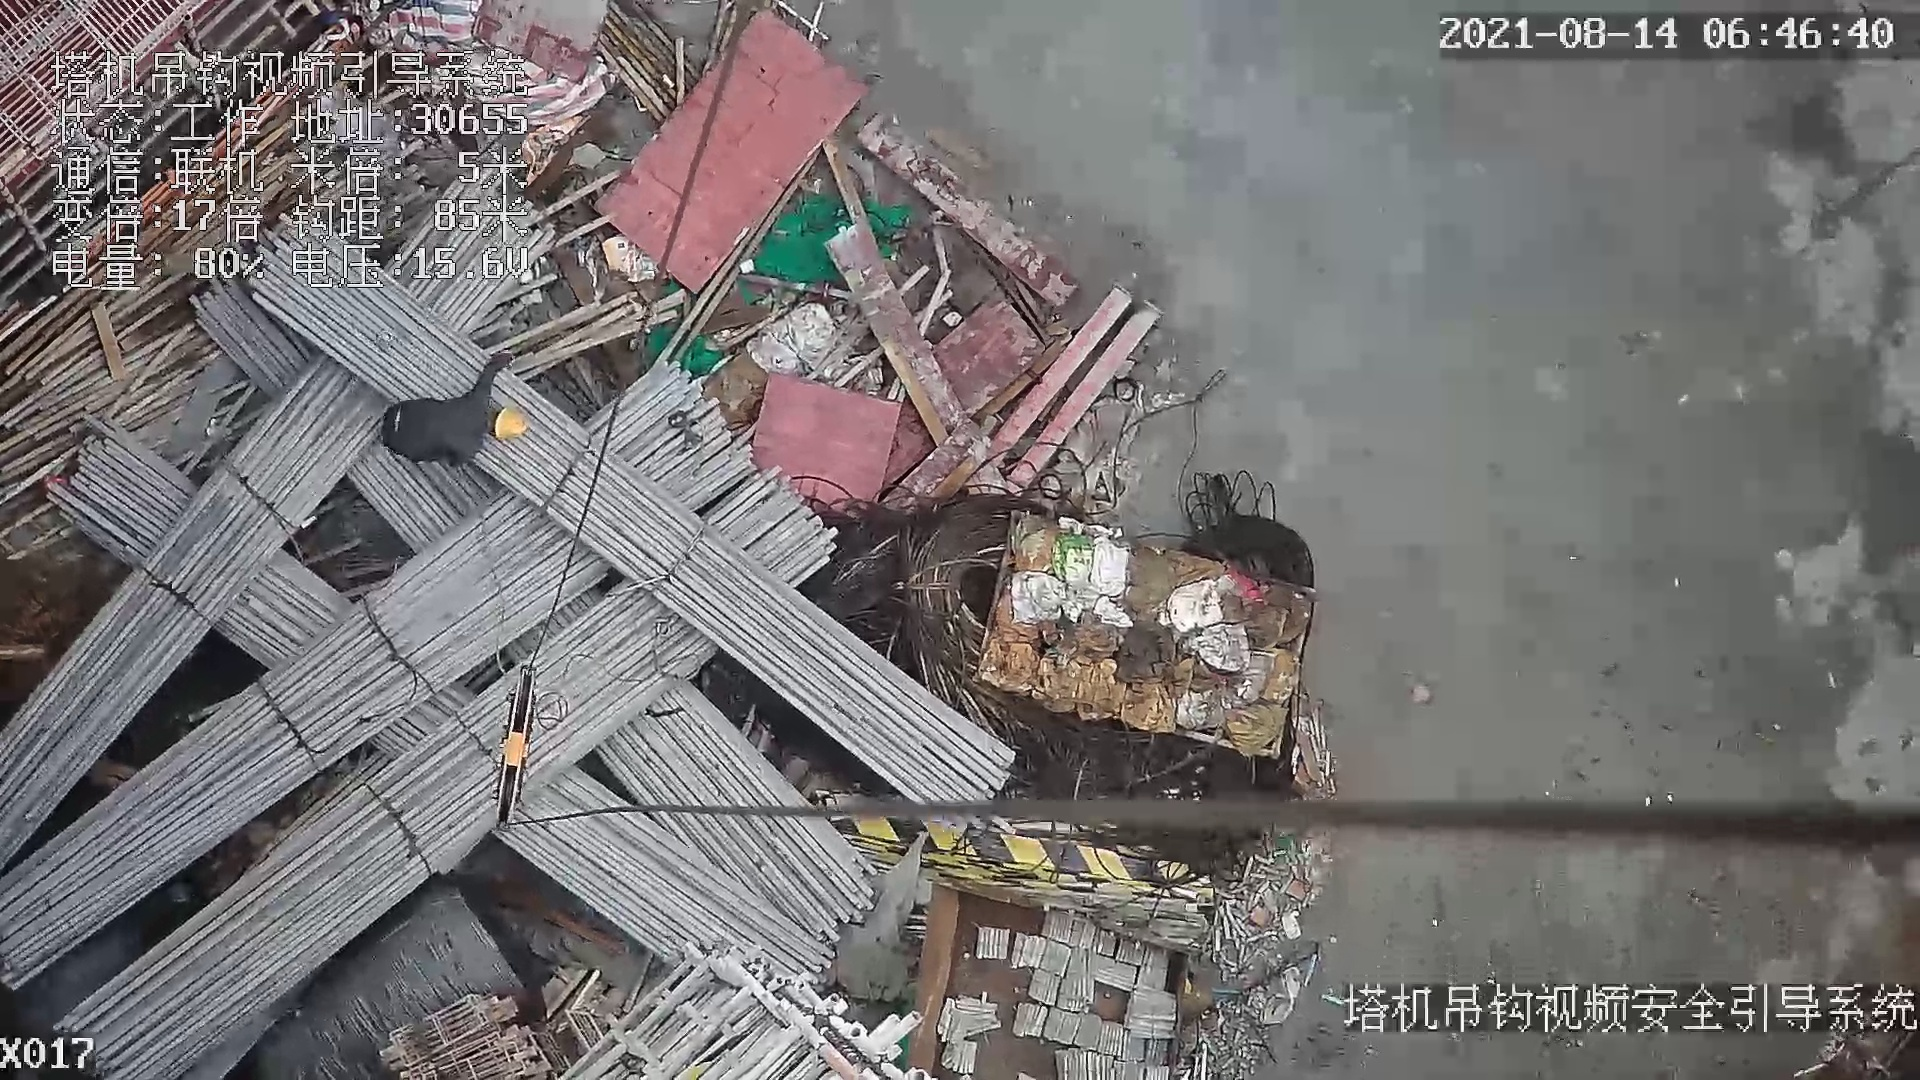board: (586, 6, 855, 264)
helmet: (497, 408, 532, 441)
hook: (492, 659, 551, 837)
person: (378, 365, 526, 469)
